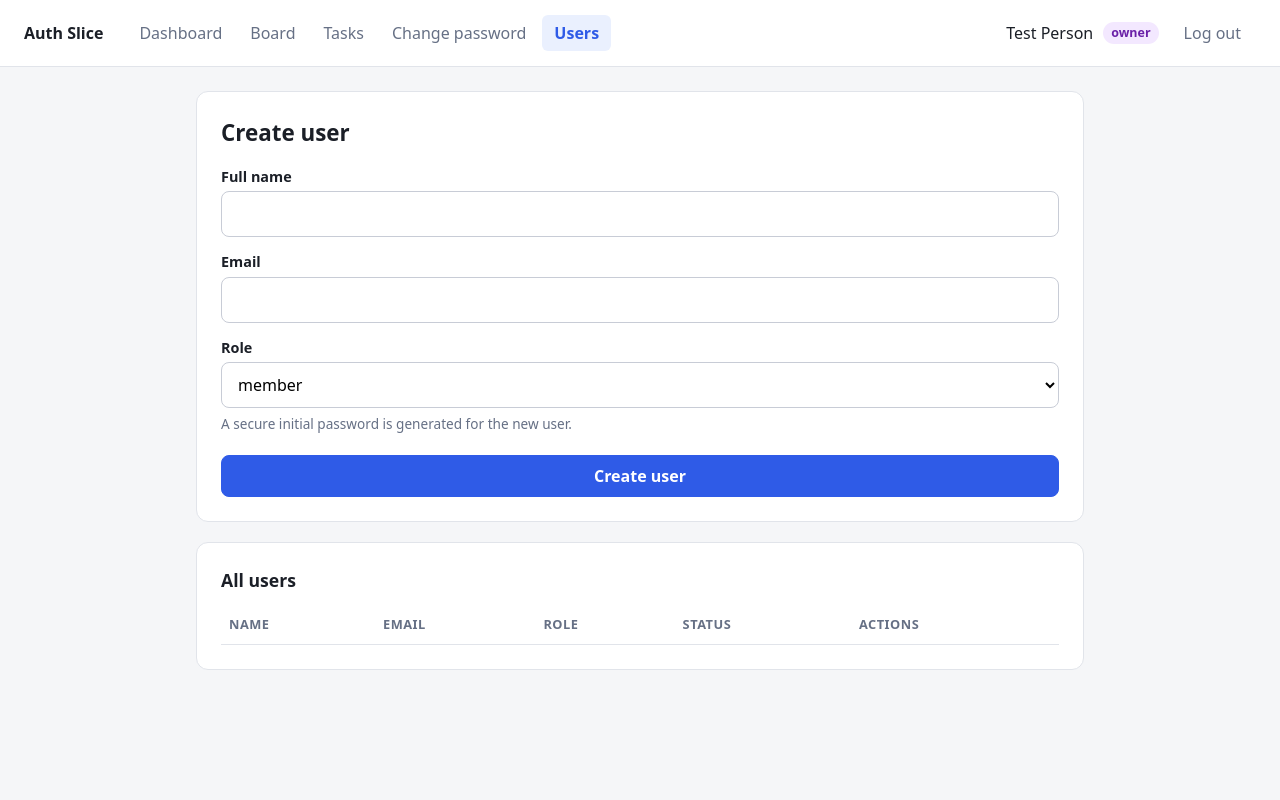
create user › shows the generated password once and removes it when dismissed
Type "New Person" into the field labelled "Full name". click: (640, 214)
box: [221,191,1059,237]
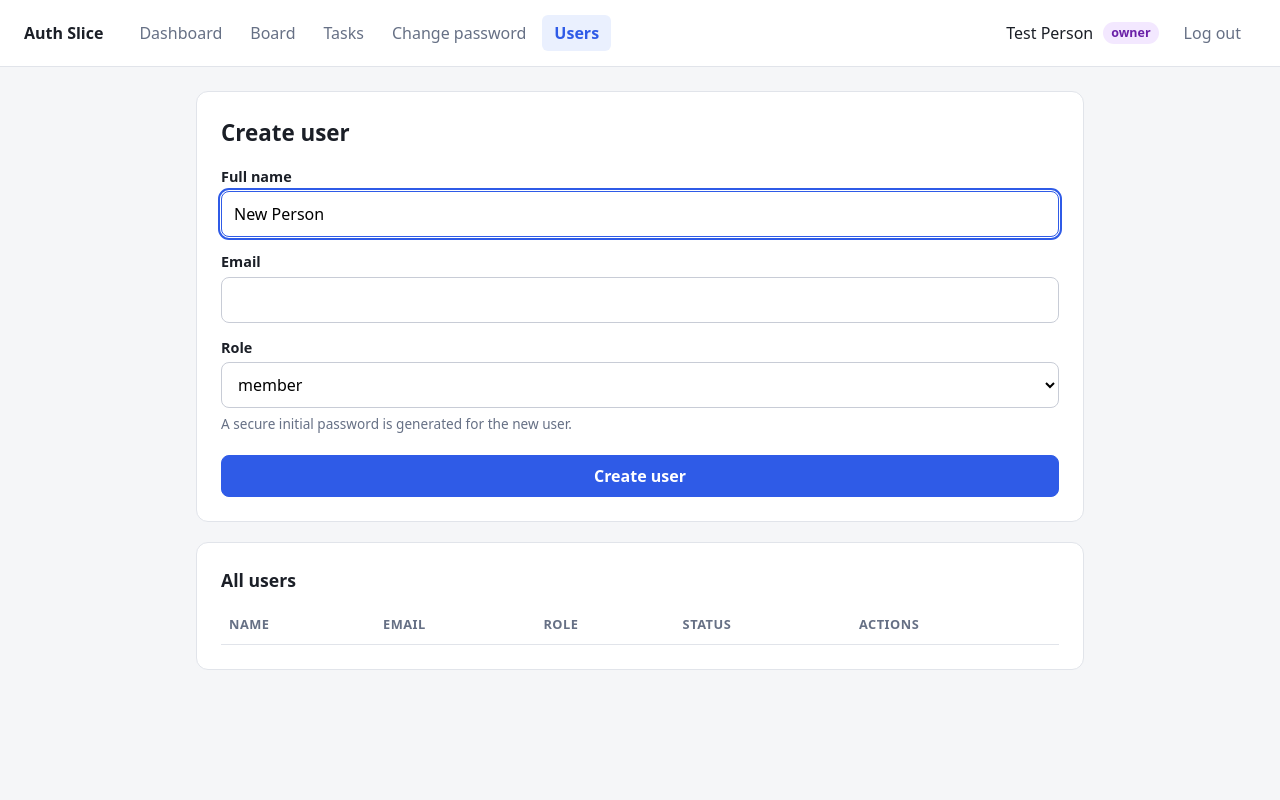
Type "new@example.com" into the field labelled "Email". click: (640, 300)
box: [221,277,1059,323]
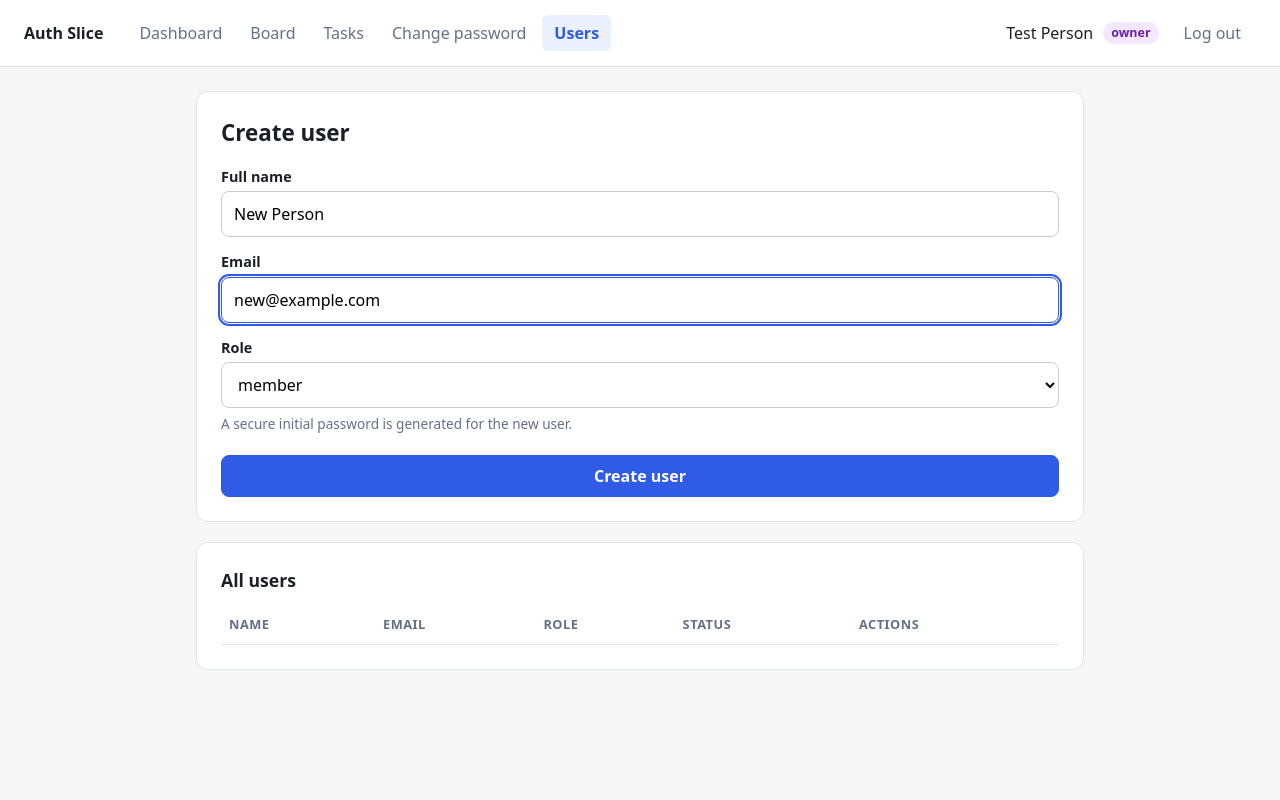
Click the button "Create user". click: (640, 476)
box: [221,455,1059,497]
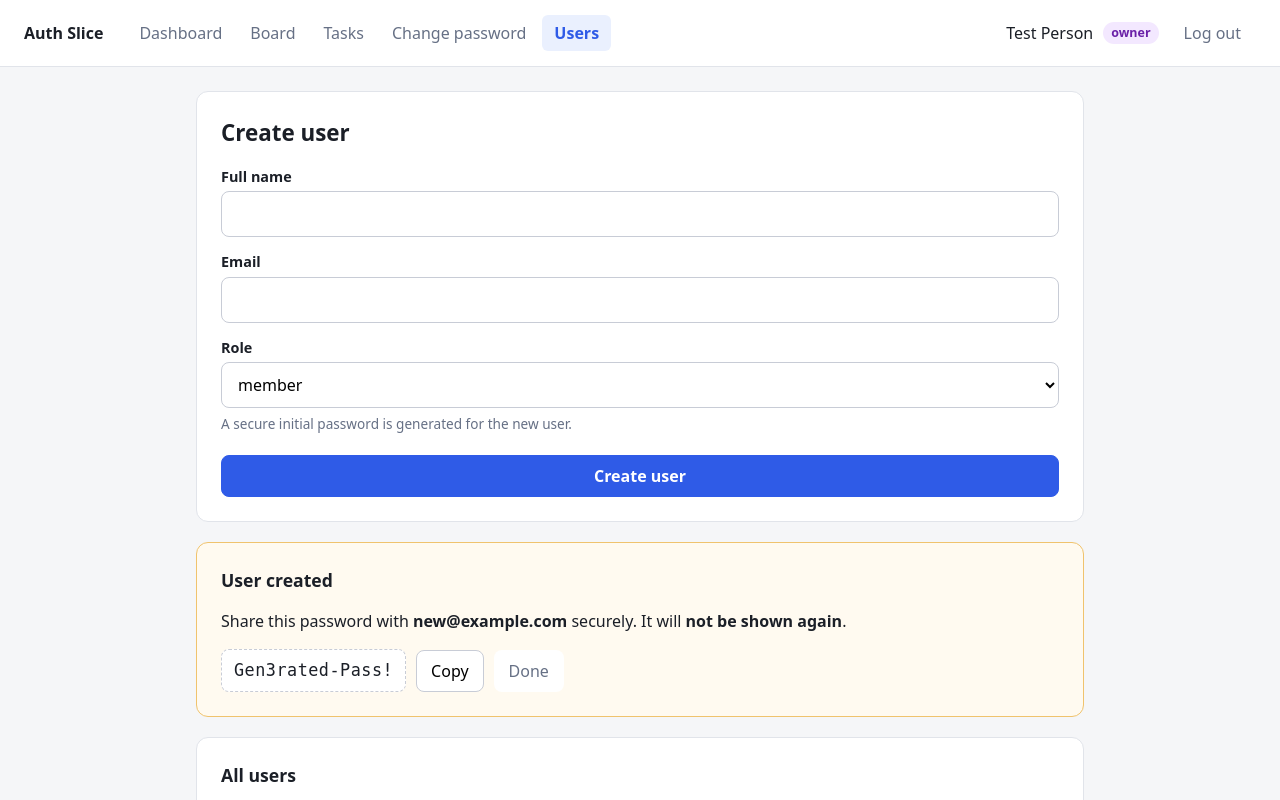
expect the text with test id "generated-password" reads "Gen3rated-Pass!": met, box [234,660,393,680]
Click the button "Done". click: (529, 671)
box: [494,650,564,692]
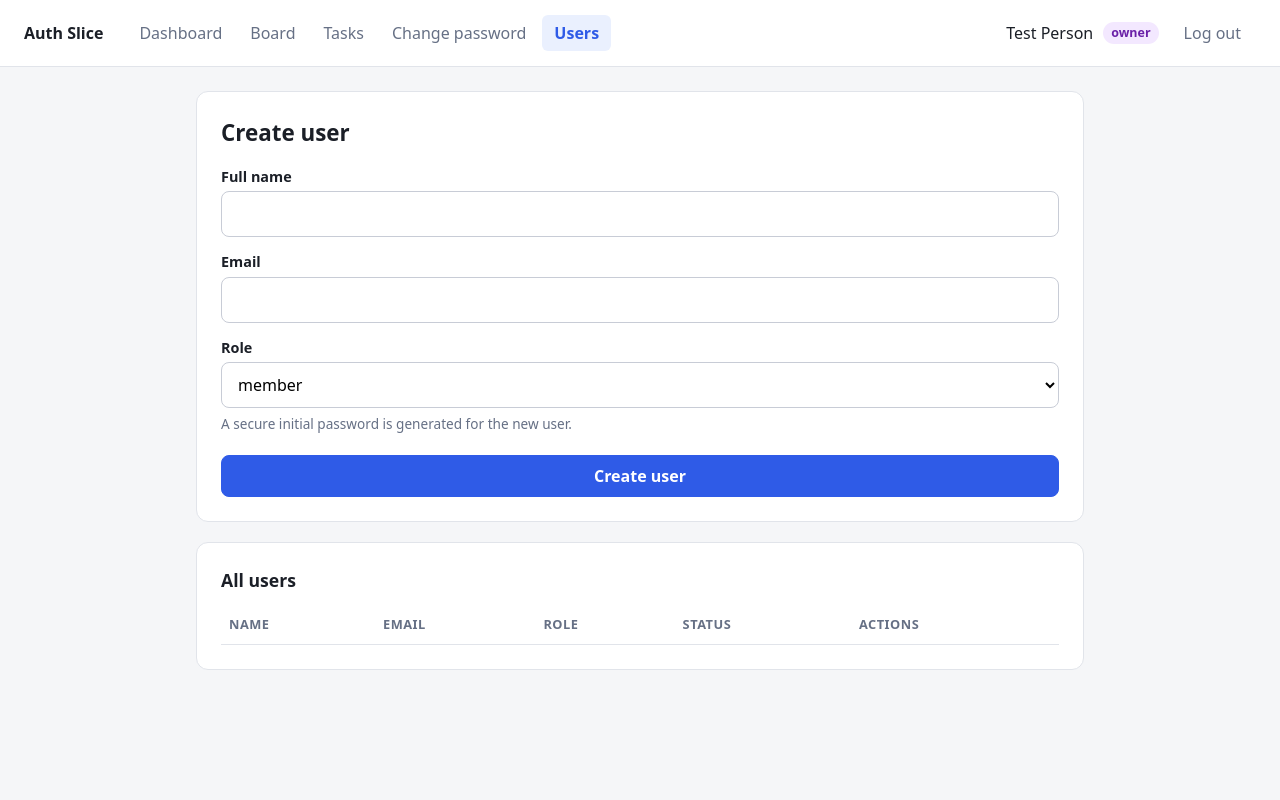
expect the text with test id "generated-password" is gone: met
